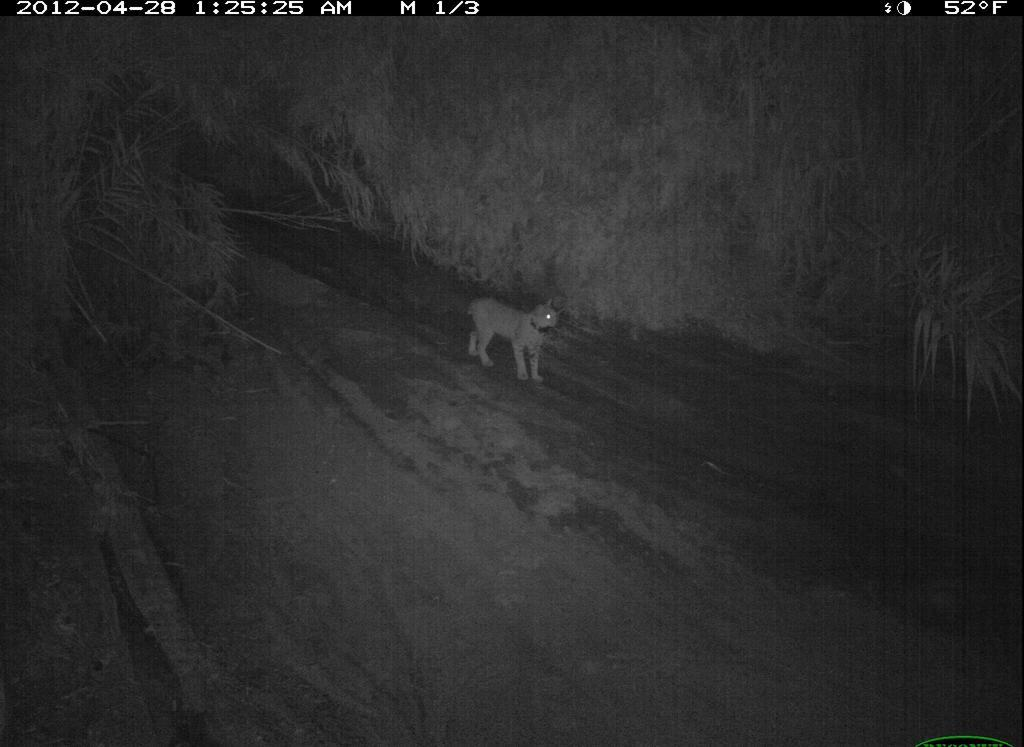bobcat: (926, 583, 1024, 747)
